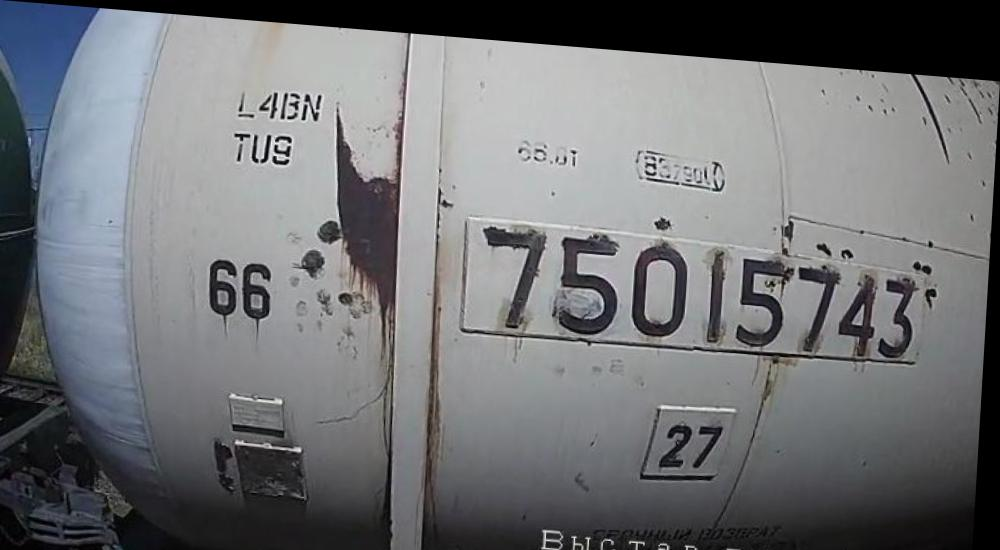Wagon-number: (474, 208, 924, 349)
